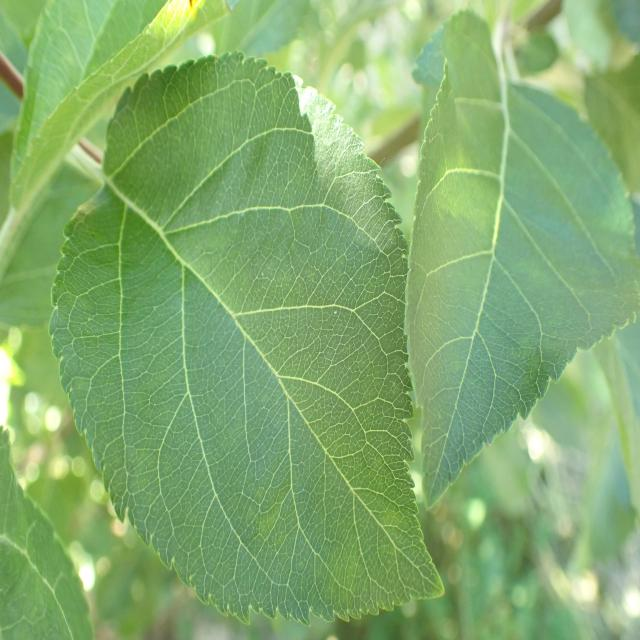healthy: (49, 52, 446, 626), (403, 8, 640, 508), (10, 0, 233, 213), (0, 425, 95, 640)
